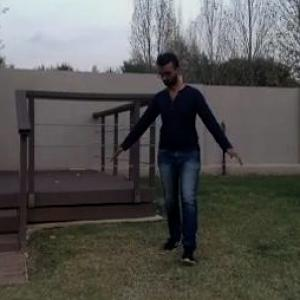land: (122, 47, 230, 274)
